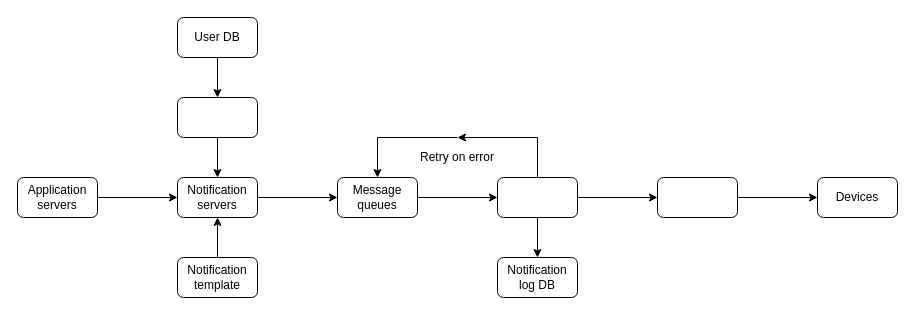
Image size: 915x315. Some labels were removed from this diagram. The shapes that lost their labels are listed below. From the top down, each one's centre as x and y in pixels, then its label:
At (217,117): "User cache".
At (537,197): "Workers".
At (697,197): "Third party services".
